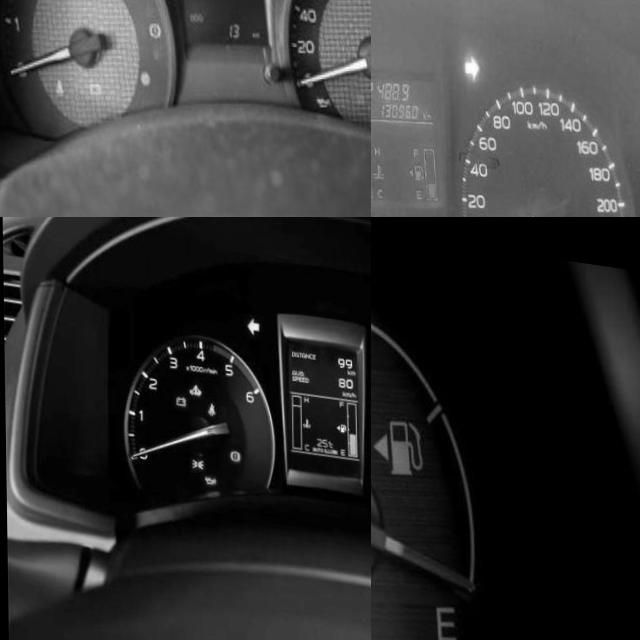Seat Belt: (53, 73, 63, 92), (205, 396, 215, 410)
